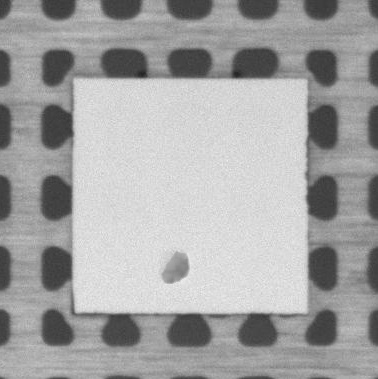DIE_INK: (159, 247, 191, 286)
